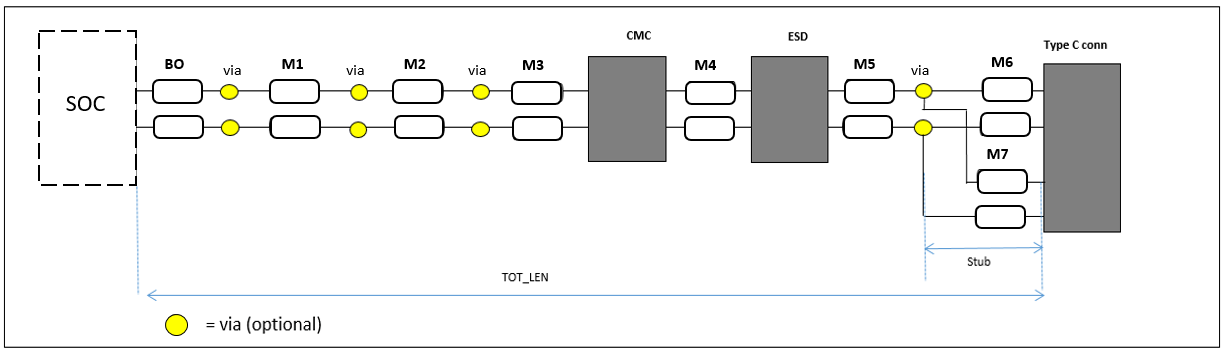circle: (350, 84, 367, 102), (221, 120, 239, 136), (916, 118, 932, 136), (220, 84, 237, 100), (472, 82, 488, 99), (473, 123, 491, 137), (350, 123, 366, 138), (915, 85, 931, 99)
dotted_rectangle: (34, 23, 138, 189)
oval: (841, 112, 894, 141), (982, 77, 1034, 103), (394, 114, 445, 140), (686, 115, 735, 141), (846, 77, 895, 103), (511, 80, 563, 104), (976, 168, 1028, 192), (685, 80, 736, 104), (512, 116, 562, 140), (267, 79, 318, 102), (152, 79, 202, 102), (978, 113, 1028, 136), (976, 206, 1026, 229), (394, 80, 443, 103), (154, 116, 204, 138), (270, 116, 320, 138)
rectangle: (1043, 59, 1123, 236), (586, 55, 668, 165), (750, 54, 829, 163)
